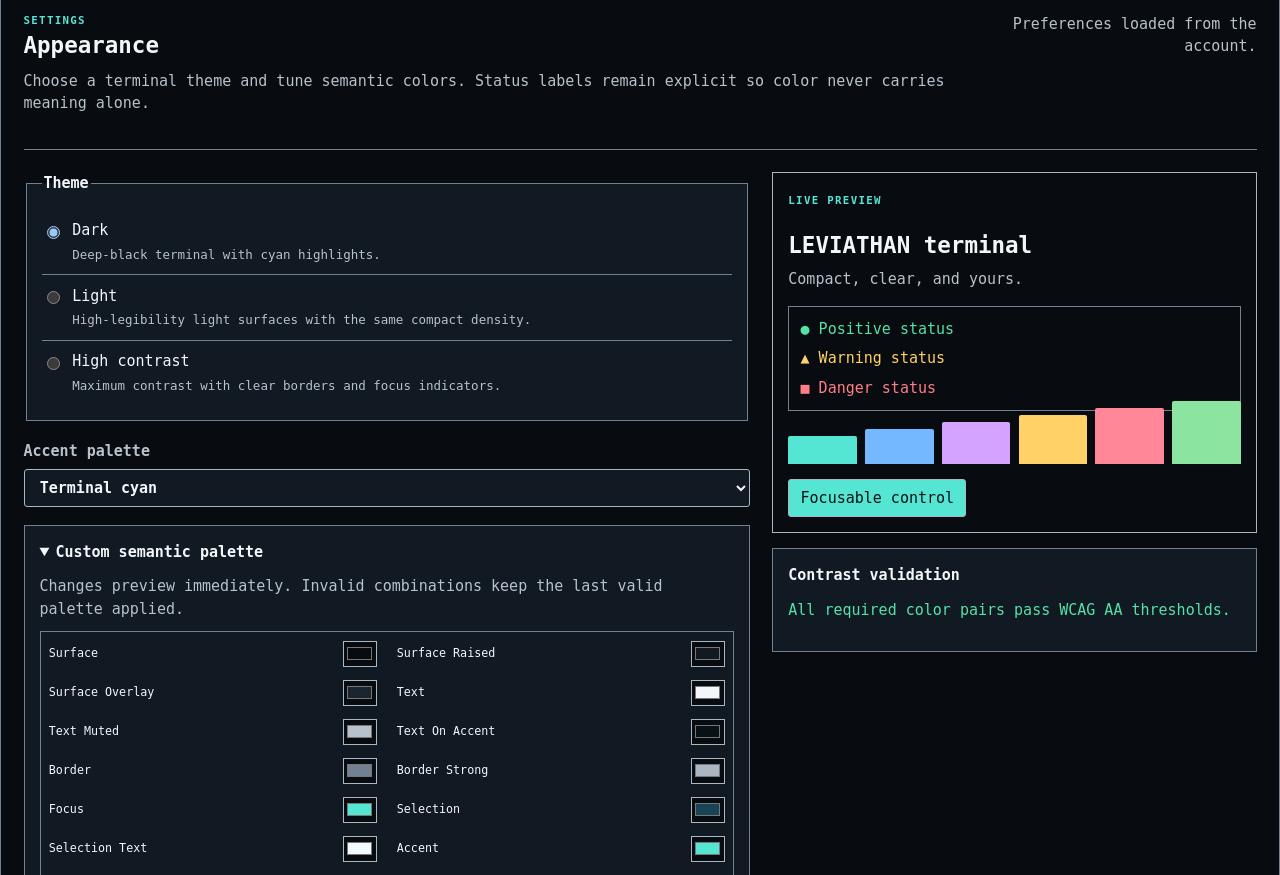
Test: THEME-001 independent acceptance › preserves an unsaved draft when the server reports a newer revision
Expected: the text "Preferences loaded from the account." is shown, [970, 12, 1256, 58]
Click the radio button labelled "Light": (53, 298) [46, 291, 60, 304]
(page scrolled)
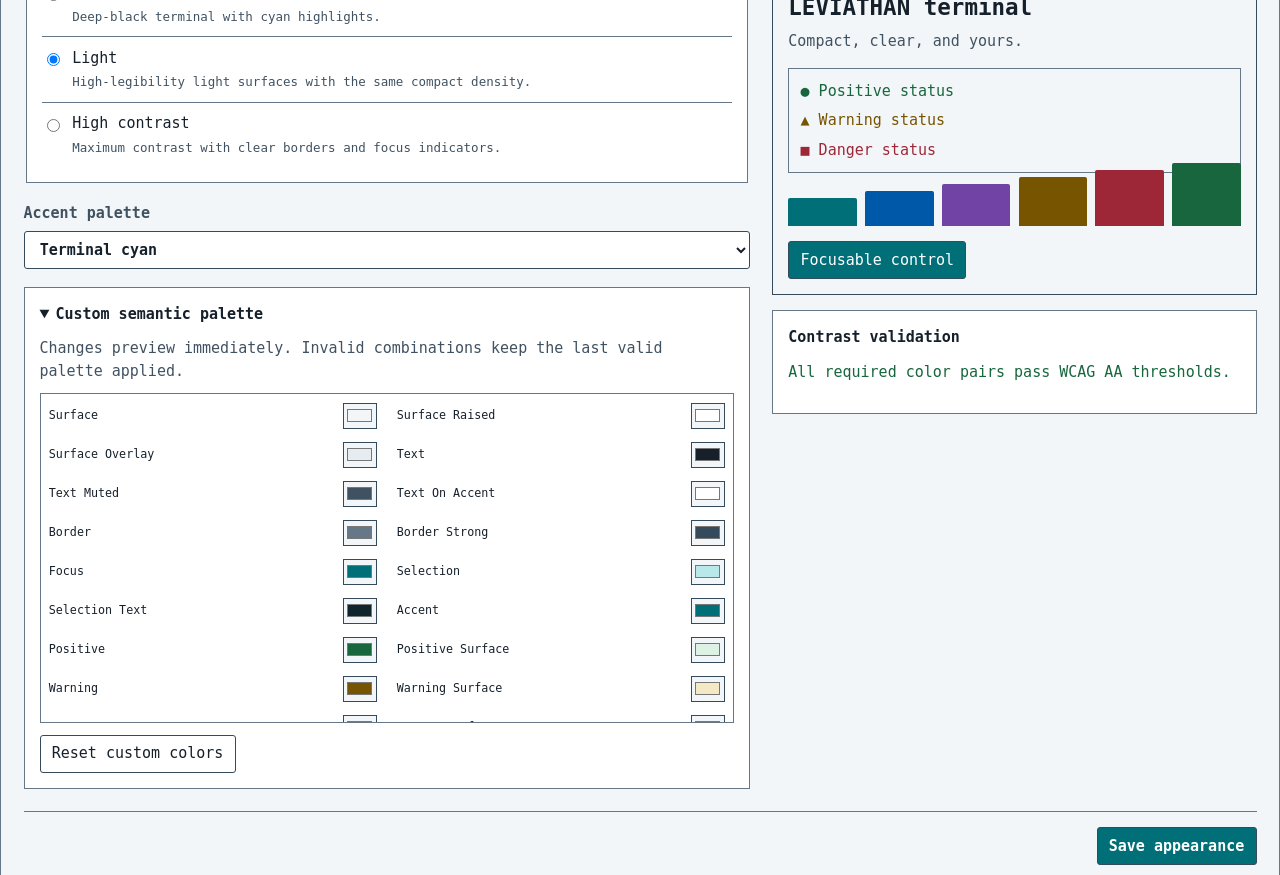
Click the button "Save appearance": (1176, 846) [1096, 827, 1256, 865]
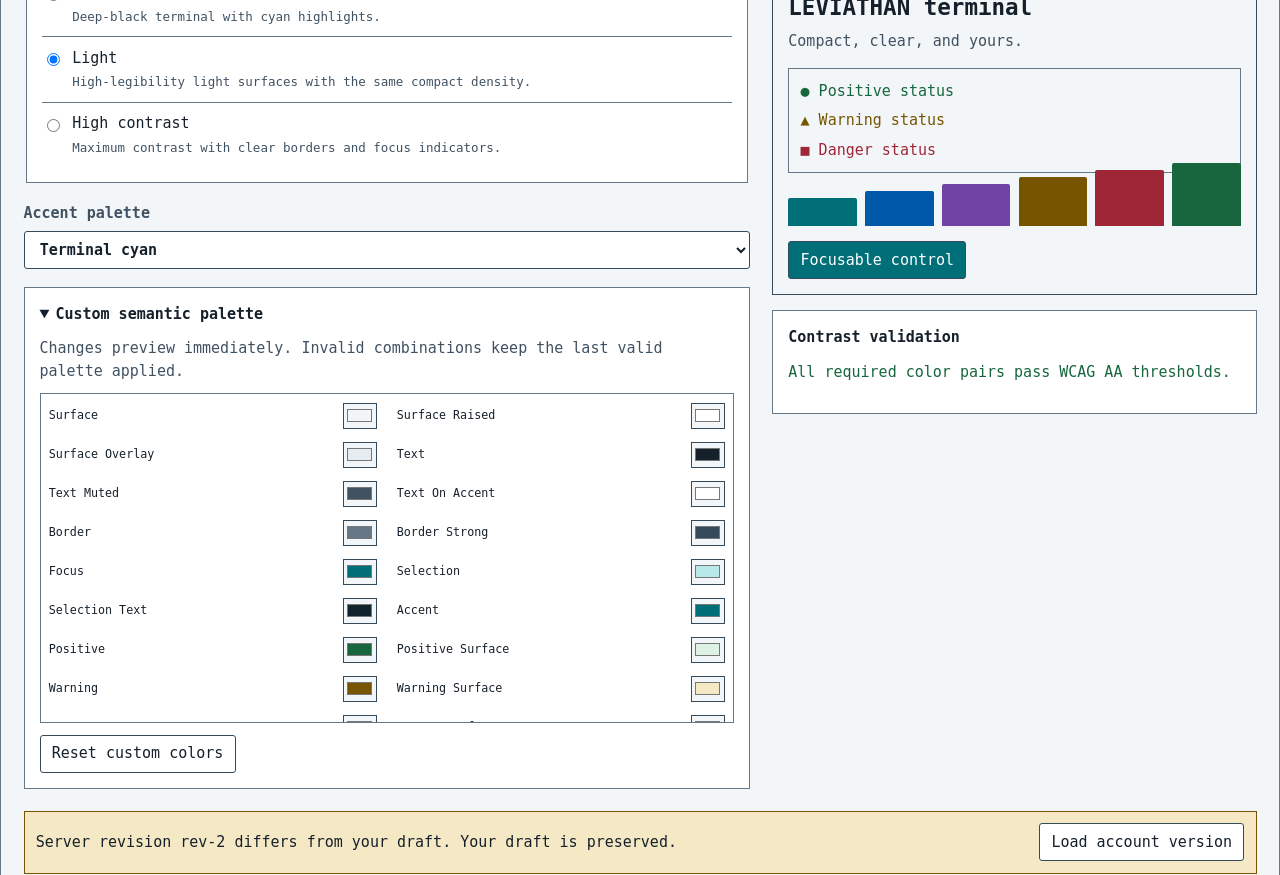
Result: the radio button labelled "Light" is checked at [46, 53, 60, 66]
Result: the message that starts with "Server revision" shows "Your draft is preserved" at [225, 833, 677, 851]
